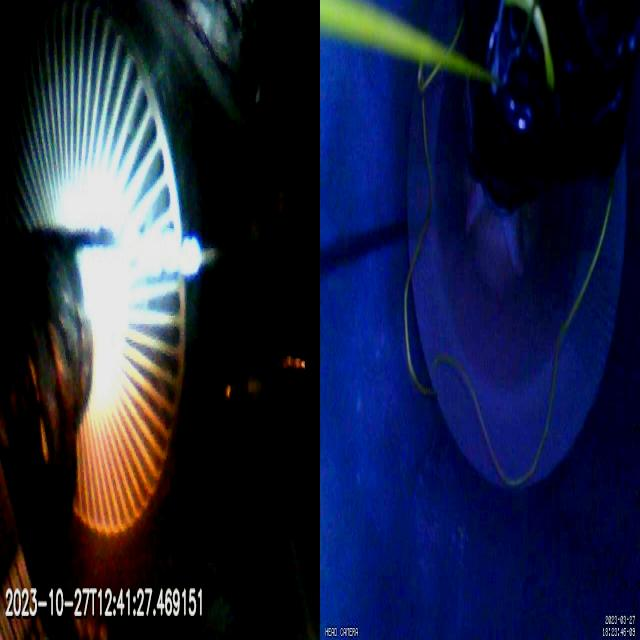white-dots: (147, 227, 202, 276)
